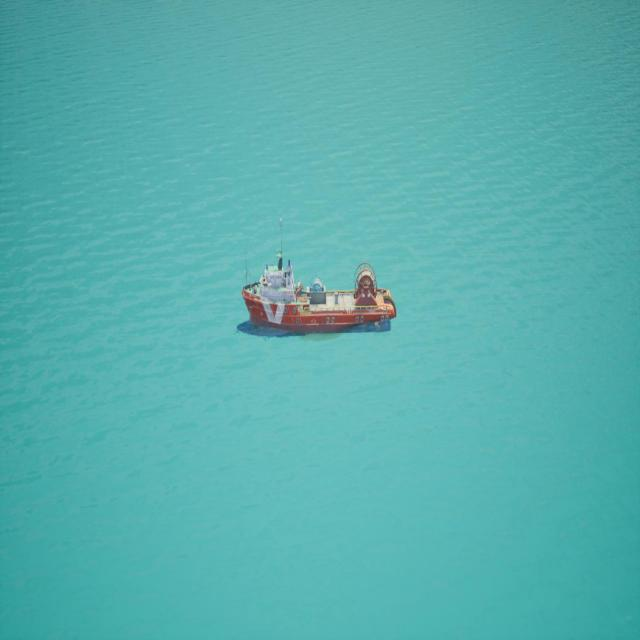tug boat: (239, 217, 399, 339)
